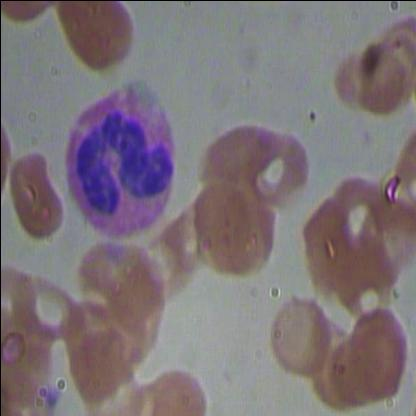RBC: (184, 174, 276, 280), (263, 280, 335, 388), (342, 296, 414, 404), (38, 0, 142, 74), (299, 311, 371, 415), (5, 134, 65, 248), (92, 251, 166, 337), (320, 168, 392, 256), (200, 110, 272, 197), (238, 126, 310, 212), (64, 328, 145, 404), (349, 30, 406, 118), (138, 220, 198, 300), (135, 357, 217, 415), (70, 357, 152, 415), (1, 99, 17, 225)
WBC: (52, 76, 183, 235)
